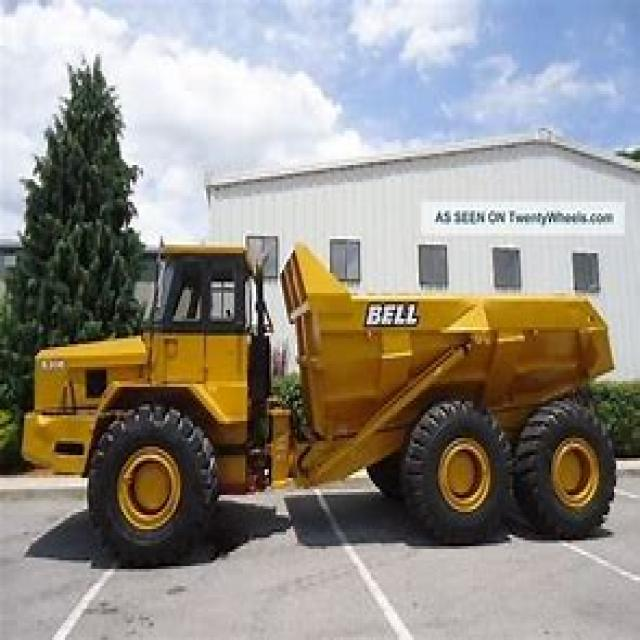dump_truck: (24, 219, 631, 560)
